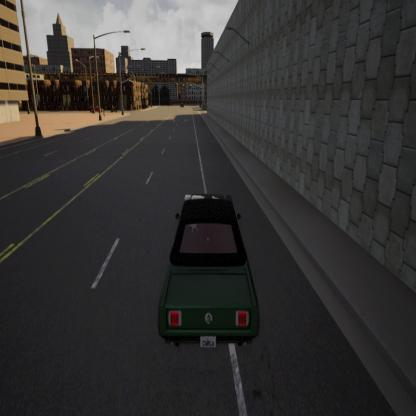Cars: (145, 182, 268, 362)
